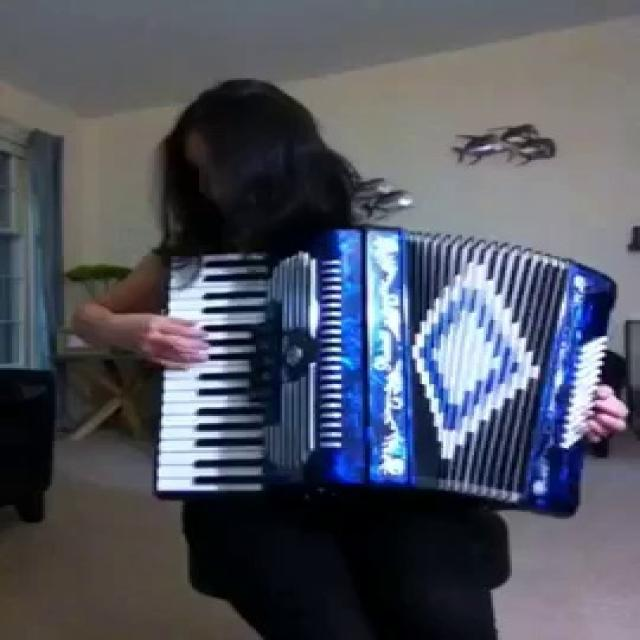Accordion: (163, 228, 603, 516)
